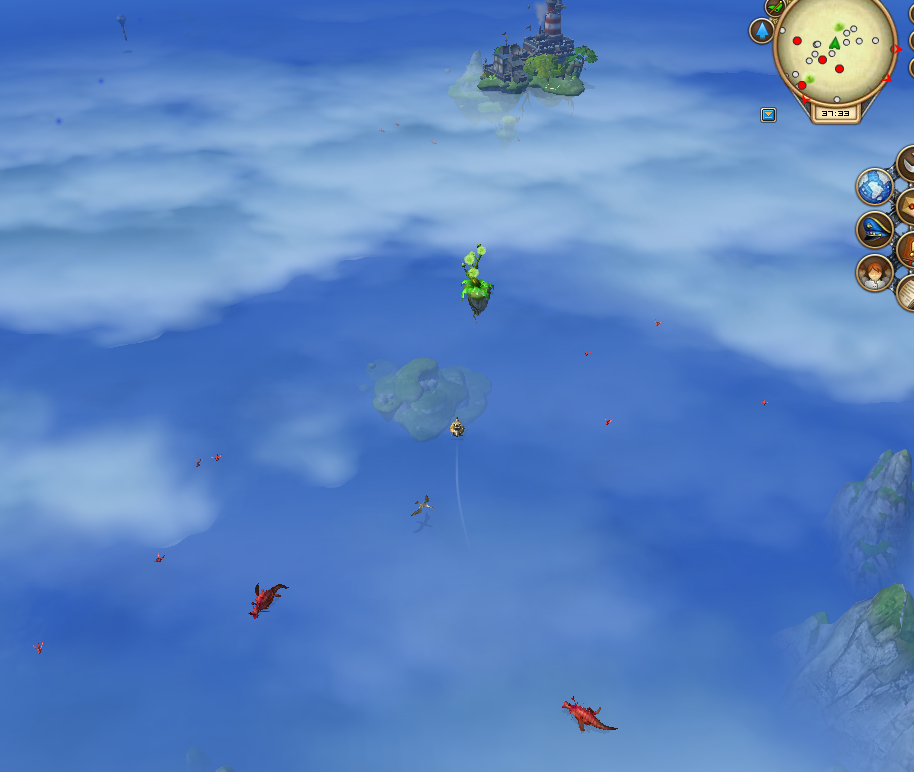dandelion-full: (452, 236, 501, 320)
